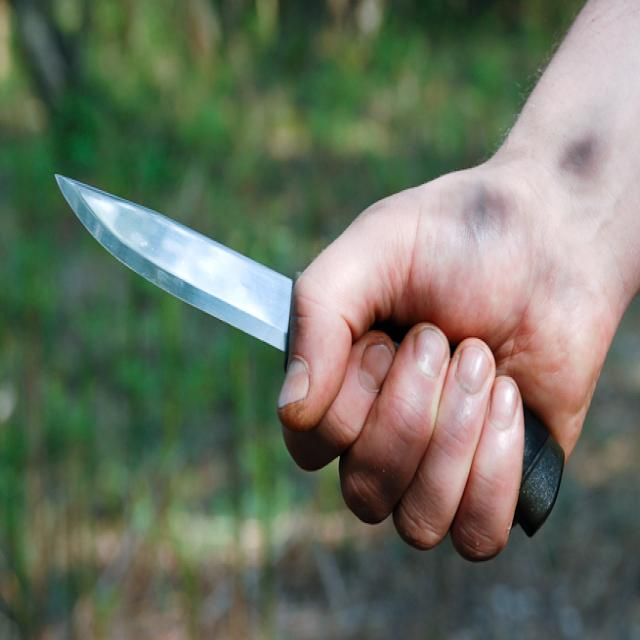knife: (53, 168, 566, 547)
